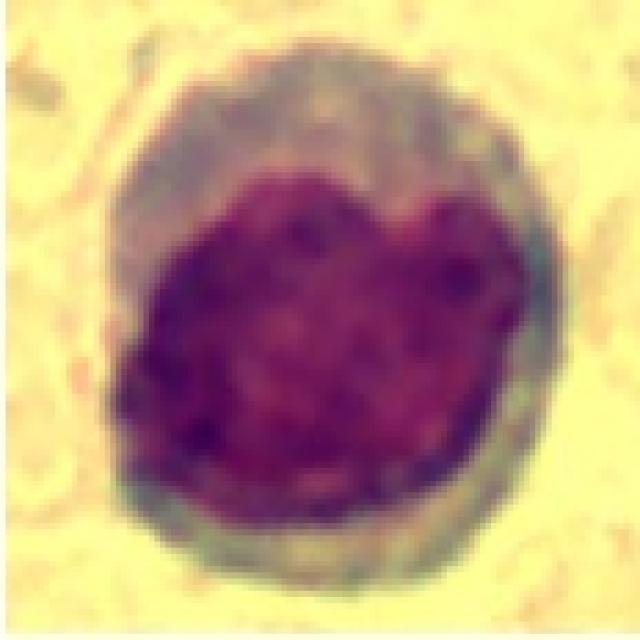WBC: (78, 31, 580, 591)
